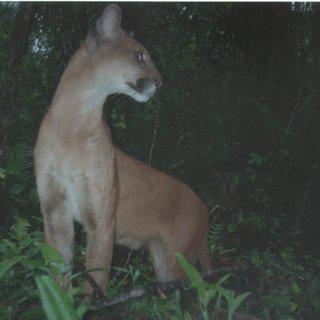OncaParda: (29, 5, 226, 294)
